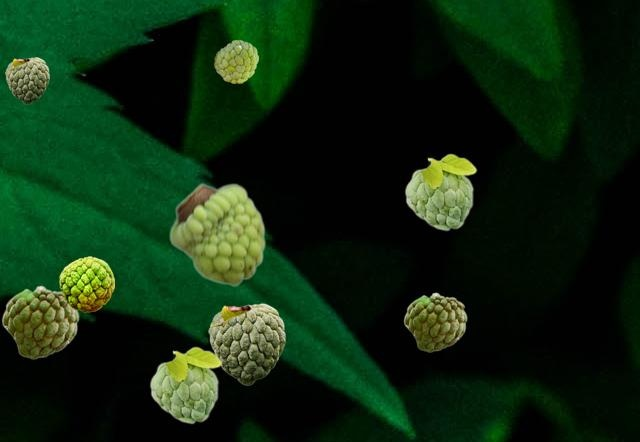atis: (169, 182, 265, 286), (208, 303, 284, 384), (1, 285, 78, 358), (404, 153, 476, 230), (149, 346, 221, 423), (403, 292, 466, 351), (59, 256, 113, 311), (5, 57, 48, 103), (214, 40, 257, 82)
